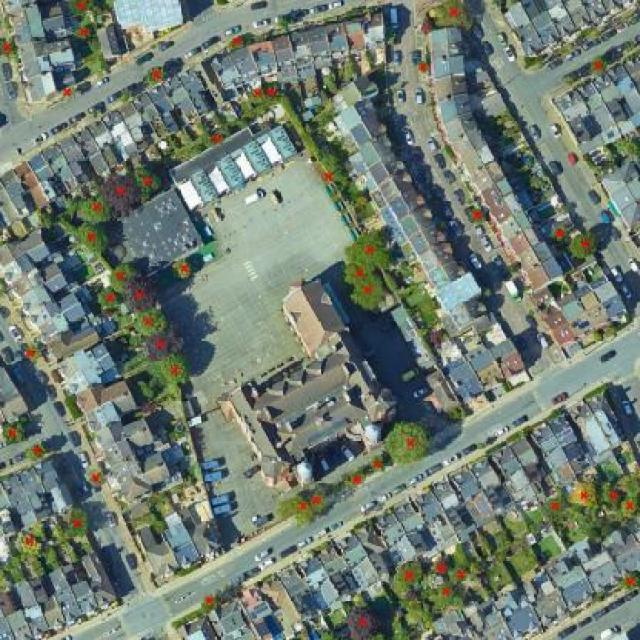tree: (386, 419, 440, 470), (96, 163, 141, 220), (428, 0, 487, 43), (334, 595, 389, 640), (342, 228, 395, 274), (67, 186, 124, 226), (352, 273, 396, 322), (384, 552, 428, 600), (272, 490, 316, 536), (118, 276, 170, 313), (72, 219, 121, 258), (128, 155, 168, 201), (304, 479, 342, 522), (141, 327, 187, 362), (128, 303, 171, 340), (156, 352, 195, 392), (440, 544, 475, 588), (614, 463, 640, 522), (534, 484, 569, 525), (334, 255, 385, 282), (427, 576, 459, 619), (9, 524, 46, 561), (565, 474, 604, 509), (569, 510, 613, 541), (62, 502, 93, 544), (107, 256, 144, 290), (568, 229, 602, 260), (83, 462, 112, 496), (587, 53, 616, 84), (173, 253, 199, 287), (87, 286, 121, 312), (614, 564, 640, 596), (615, 130, 640, 162), (425, 554, 452, 583), (0, 39, 26, 68), (598, 483, 624, 512), (68, 0, 102, 22), (0, 420, 28, 446), (343, 467, 369, 495), (224, 29, 250, 56), (143, 63, 171, 88), (198, 126, 227, 149), (73, 23, 98, 49), (244, 83, 268, 109), (195, 592, 222, 615), (365, 452, 390, 476), (55, 82, 81, 105), (20, 343, 43, 368), (262, 82, 283, 107), (26, 441, 49, 461), (150, 518, 172, 538), (549, 224, 569, 241), (469, 205, 486, 224), (320, 172, 338, 186), (562, 205, 571, 217)
